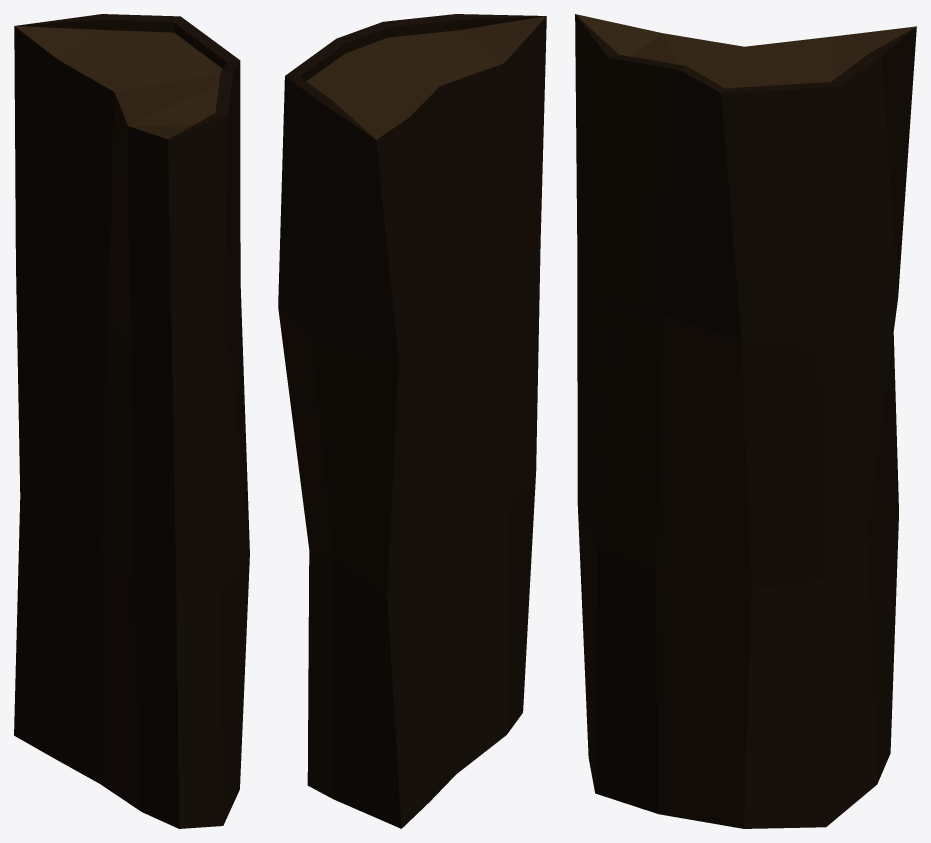
File: CutLog03_FBX.fbx
3 views of the same model, side by side, from view 1: azimuth 30°, elevation 25°; view 2: azimuth 150°, elevation 25°; view 3: azimuth 270°, elevation 25° (orthographic). The views are drawn at different scales.
Parts seen in each view (by area): view 1: CUT LOG 3; view 2: CUT LOG 3; view 3: CUT LOG 3.
Boxes of the visible parts, x1=… form: CUT LOG 3: x1=14, y1=14, x2=249, y2=828; CUT LOG 3: x1=278, y1=14, x2=546, y2=828; CUT LOG 3: x1=575, y1=14, x2=916, y2=828.
Bounding box in the file's own units: 14.35 × 62.54 × 25.66.
